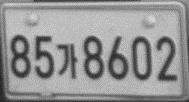0: (131, 35, 153, 81)
2: (156, 35, 178, 82)
5: (33, 35, 55, 79)
6: (107, 35, 129, 80)
8: (9, 34, 32, 79), (82, 34, 104, 80)
가: (56, 42, 78, 80)
